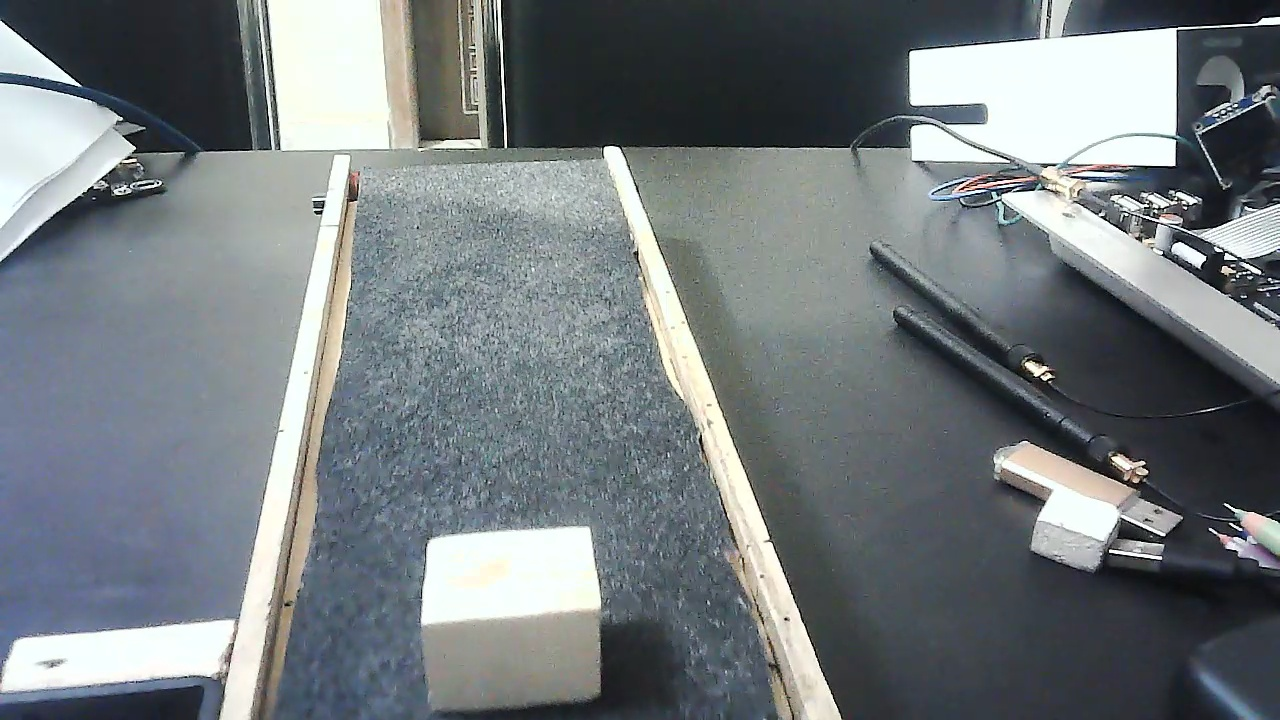Medium: (421, 527, 605, 711)
